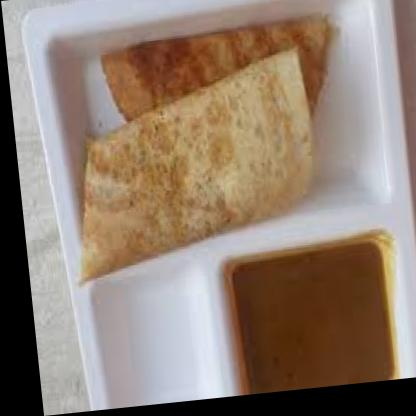dosa: (55, 55, 317, 284), (97, 19, 335, 144)
